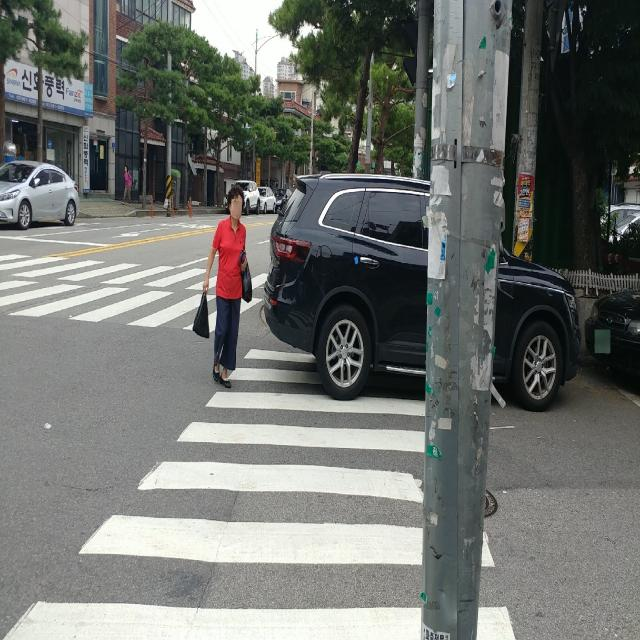횡단보도: (2, 346, 515, 640), (2, 250, 218, 330)
